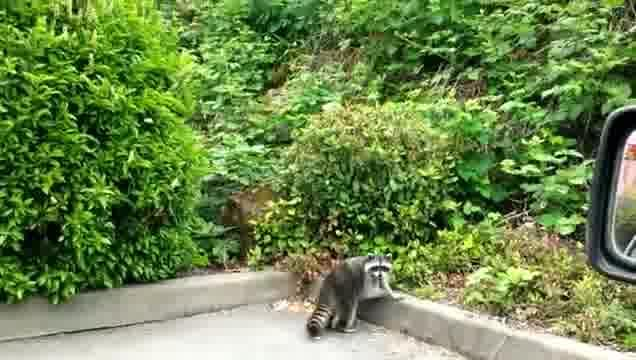raccoon: (307, 252, 401, 340)
